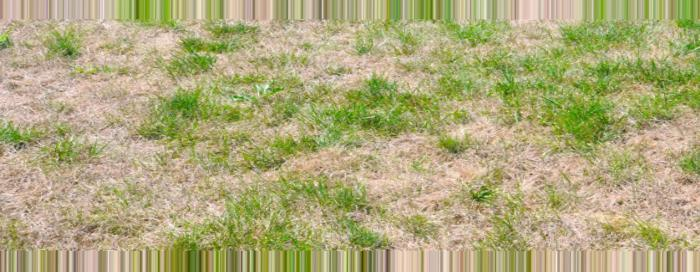patch: (57, 144, 226, 226), (29, 37, 139, 130), (558, 163, 685, 235), (298, 145, 459, 191)
